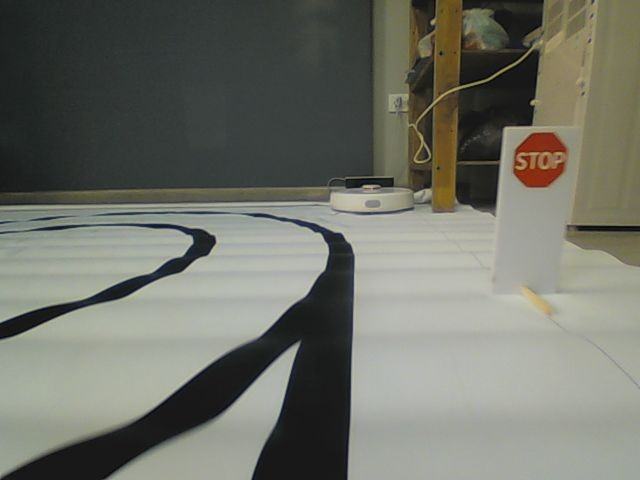Stop: (513, 132, 567, 187)
